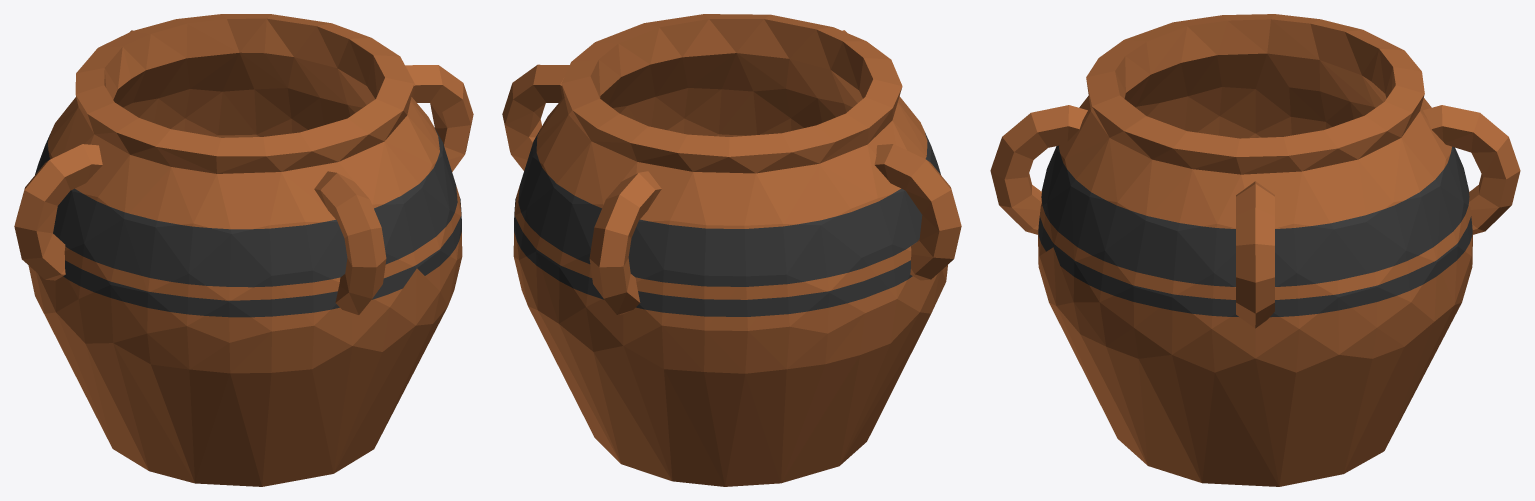
Rendered from Pottery 10_2b.fbx.
3 renders of one model, left to right at view 1: azimuth 30°, elevation 25°; view 2: azimuth 150°, elevation 25°; view 3: azimuth 270°, elevation 25°, orthographic.
Visible parts, largest first — view 1: Pottery 2_2b.015, Pottery 2_2b.010, Pottery 2_2b.011, Pottery 2_2b.012, Pottery 2_2b.008, Pottery 10_2b, Pottery 2_2b.013, Pottery 2_2b.014; view 2: Pottery 2_2b.011, Pottery 2_2b.012, Pottery 10_2b, Pottery 2_2b.014, Pottery 2_2b.015, Pottery 2_2b.013, Pottery 2_2b.010; view 3: Pottery 2_2b.013, Pottery 2_2b.014, Pottery 2_2b.012, Pottery 2_2b.011, Pottery 10_2b, Pottery 2_2b.015, Pottery 2_2b.008, Pottery 2_2b.010.
Boxes of the visible parts, box(x1,y1,x2,y2) form: Pottery 2_2b.015: box(156, 99, 416, 345); Pottery 2_2b.010: box(85, 167, 271, 445); Pottery 2_2b.011: box(14, 46, 170, 359); Pottery 2_2b.012: box(98, 14, 292, 137); Pottery 2_2b.008: box(265, 268, 447, 445); Pottery 10_2b: box(64, 344, 404, 486); Pottery 2_2b.013: box(264, 14, 473, 171); Pottery 2_2b.014: box(367, 55, 462, 305); Pottery 2_2b.011: box(704, 79, 961, 415); Pottery 2_2b.012: box(519, 98, 729, 411); Pottery 10_2b: box(528, 307, 930, 486); Pottery 2_2b.014: box(595, 14, 756, 136); Pottery 2_2b.015: box(704, 14, 919, 134); Pottery 2_2b.013: box(502, 42, 620, 304); Pottery 2_2b.010: box(898, 102, 947, 312); Pottery 2_2b.013: box(1208, 115, 1411, 425); Pottery 2_2b.014: box(1053, 116, 1240, 358); Pottery 2_2b.012: box(1365, 49, 1520, 381); Pottery 2_2b.011: box(1174, 14, 1403, 138); Pottery 10_2b: box(1093, 347, 1420, 486); Pottery 2_2b.015: box(990, 22, 1187, 264); Pottery 2_2b.008: box(1038, 247, 1214, 425); Pottery 2_2b.010: box(1136, 63, 1187, 130).
Bounding box in the file's own units: 87.53 × 63.93 × 87.53.
